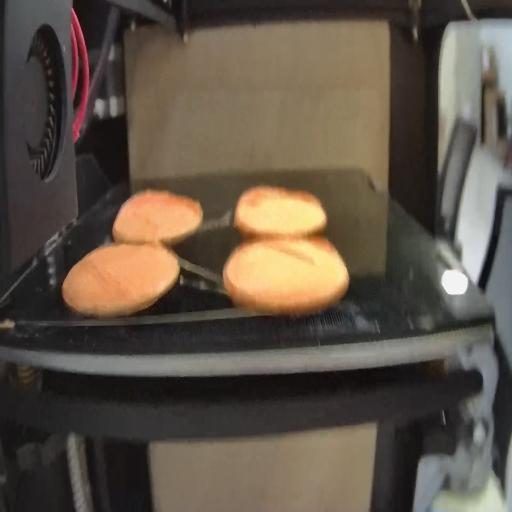over_extrusion: (267, 238, 313, 269), (281, 186, 321, 207), (181, 194, 204, 216), (144, 238, 164, 250)
